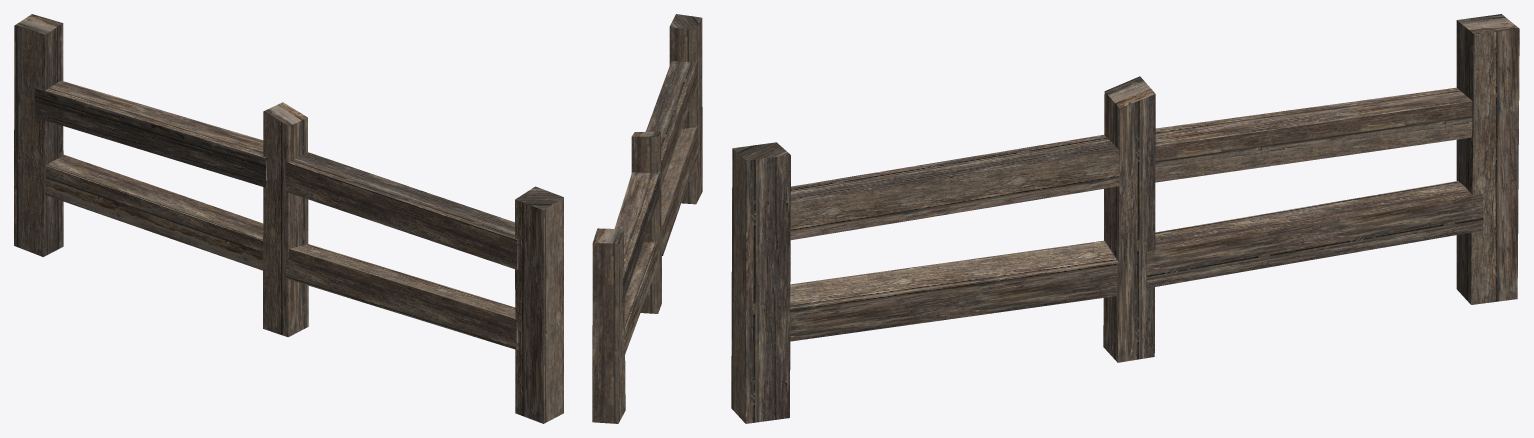
Rendered from fence.fbx.
The picture shows the model from 3 angles, left to right: view 1: azimuth 30°, elevation 25°; view 2: azimuth 150°, elevation 25°; view 3: azimuth 270°, elevation 25°; orthographic projection. The views are drawn at different scales.
Parts seen in each view (by area): view 1: fence; view 2: fence; view 3: fence.
Part boxes in pixels (x1=…): fence: x1=14, y1=14, x2=563, y2=423; fence: x1=592, y1=14, x2=702, y2=423; fence: x1=731, y1=14, x2=1519, y2=423.
Bounding box in the file's own units: 170 × 151 × 397.
1 material, 1 textured.
